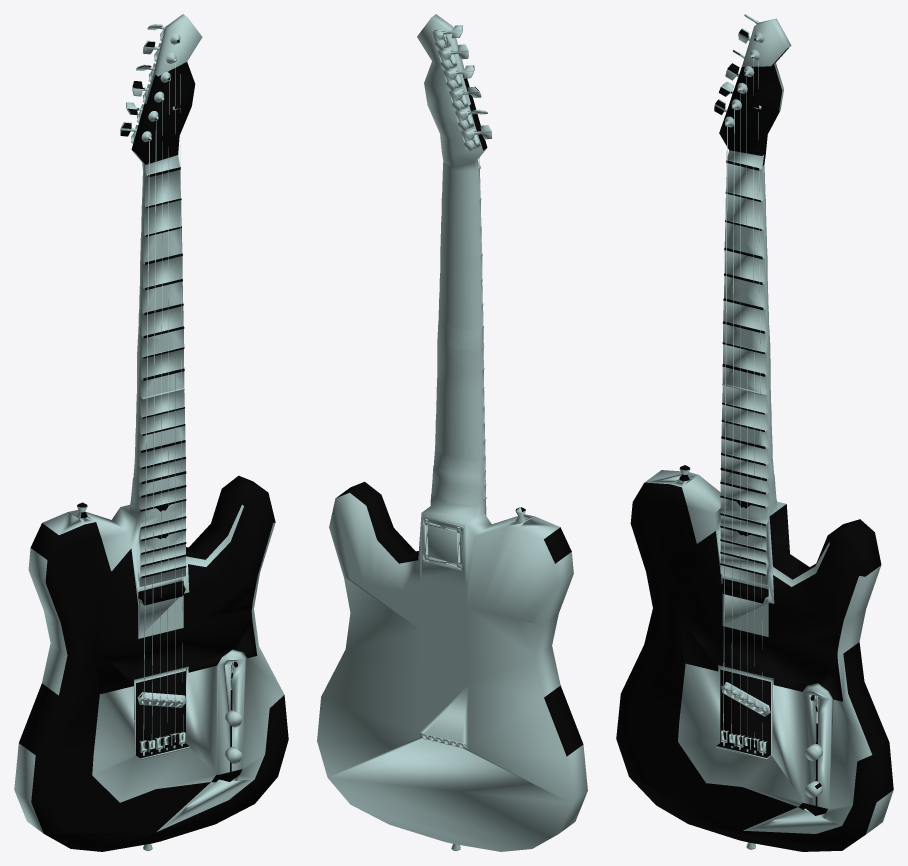
Rendered from guitar3.glb.
3 views of the same model, side by side, from view 1: azimuth 30°, elevation 25°; view 2: azimuth 150°, elevation 25°; view 3: azimuth 330°, elevation 25° (orthographic). The views are drawn at different scales.
Parts seen in each view (by area): view 1: fendertelecaster; view 2: fendertelecaster; view 3: fendertelecaster.
Boxes of the visible parts, <box> form: fendertelecaster: <box>14,14,288,851</box>; fendertelecaster: <box>317,14,587,851</box>; fendertelecaster: <box>616,14,893,851</box>.
Bounding box in the file's own units: 0.5181 × 1.6 × 0.0867.
